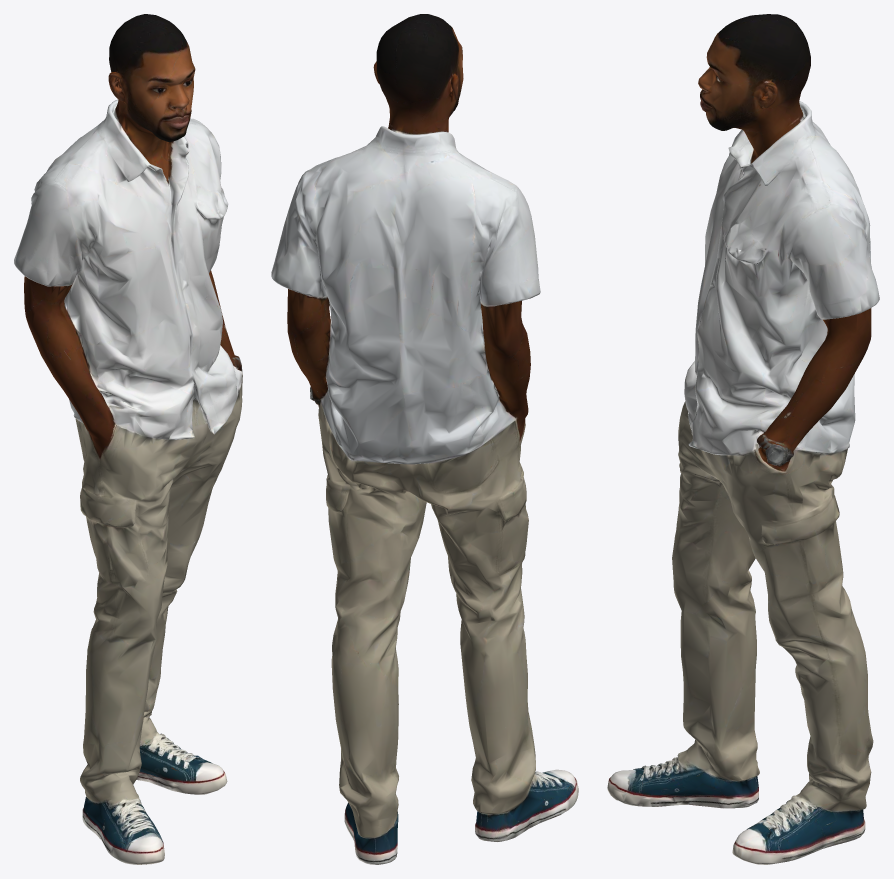
File: bermuda-npc-male.glb
3 renders of one model, left to right at view 1: azimuth 30°, elevation 25°; view 2: azimuth 150°, elevation 25°; view 3: azimuth 270°, elevation 25°, orthographic. The views are drawn at different scales.
Size of the model in its own units: 0.5636 by 1.9 by 0.576.
1 material, 1 textured.
